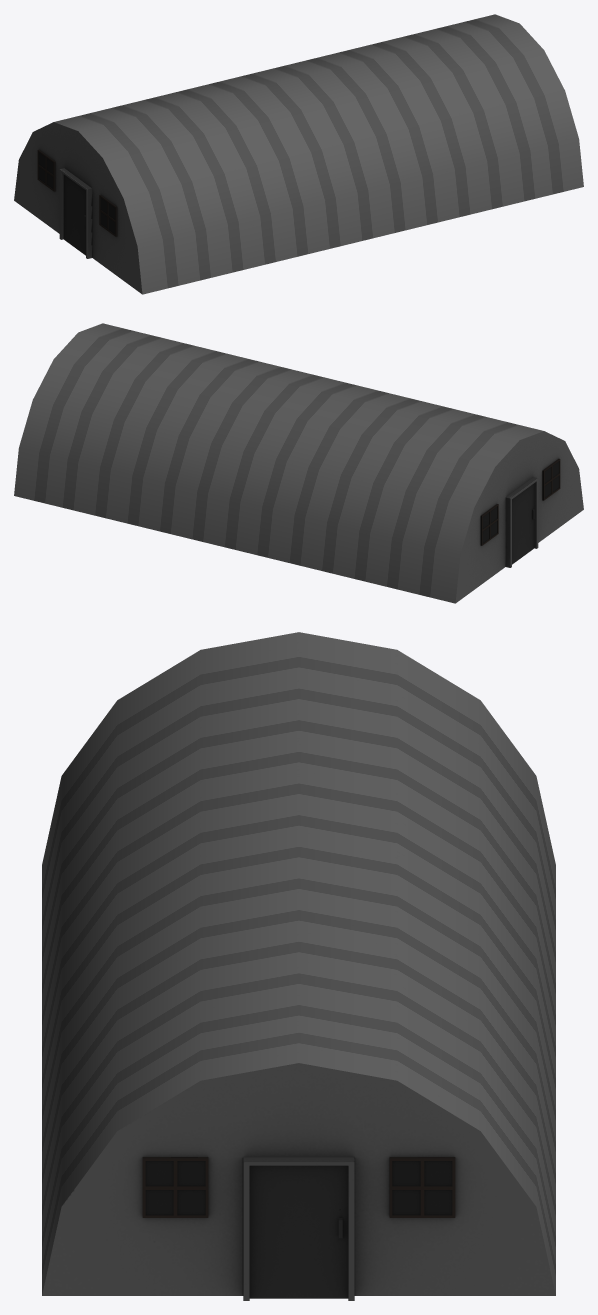
The model's file is Barracks.fbx.
3 renders of one model, top to bottom at view 1: azimuth 30°, elevation 25°; view 2: azimuth 150°, elevation 25°; view 3: azimuth 270°, elevation 25°, orthographic. The views are drawn at different scales.
Visible parts, largest first — view 1: Barracks; view 2: Barracks; view 3: Barracks.
Part boxes in pixels (bbox=[...]): Barracks: bbox=[14, 14, 583, 294]; Barracks: bbox=[14, 323, 583, 603]; Barracks: bbox=[42, 632, 555, 1300].
Bounding box in the file's own units: 54.84 × 13.55 × 27.06.
